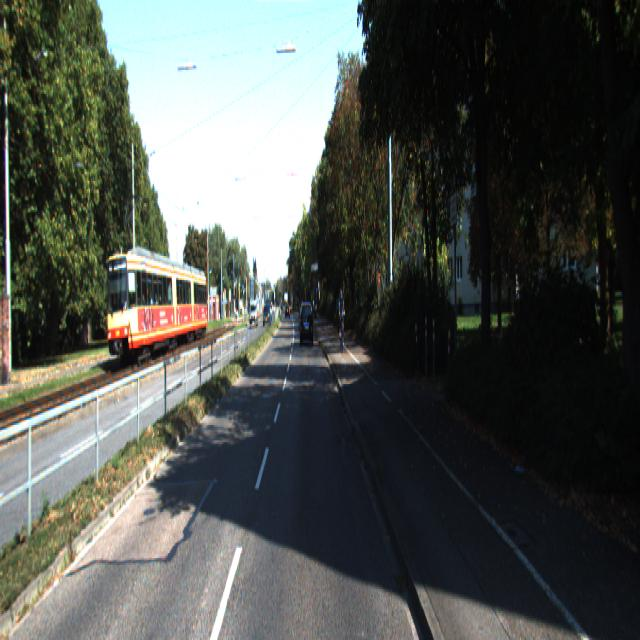Car: (300, 304, 314, 348)
DontCare: (250, 300, 276, 322), (338, 288, 344, 347), (284, 304, 289, 317)
Tram: (106, 249, 208, 370)
